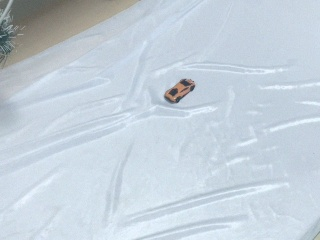toy_car: (164, 78, 196, 104)
